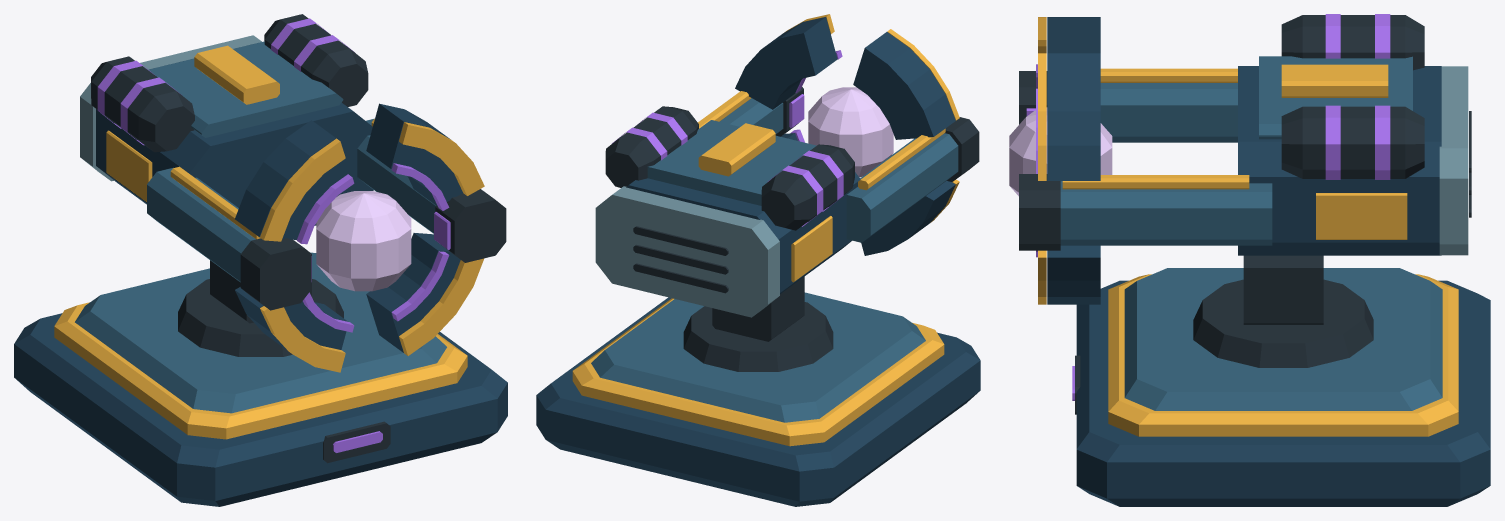
The model's file is PlasmaLevel2.obj.
3 renders of one model, left to right at view 1: azimuth 30°, elevation 25°; view 2: azimuth 150°, elevation 25°; view 3: azimuth 270°, elevation 25°, orthographic. The views are drawn at different scales.
Visible parts, largest first — view 1: SquarePedestal, UpperDeck, GoldPedestalTier, WideReactorHull, ChargedOrb, TopReactorDeck, ShoulderCapacitor-1, ForkArm-1, SplitElectrodeArmor1, Turntable, SplitElectrodeArmor3, ShoulderCapacitor1 (+22 smaller); view 2: SquarePedestal, UpperDeck, RearArmor, GoldPedestalTier, SplitElectrodeArmor1, Turntable, TopReactorDeck, ForkArm-1, SplitElectrodeArmor0, ChargedOrb, ShoulderCapacitor-1, WideReactorHull (+15 smaller); view 3: SquarePedestal, UpperDeck, WideReactorHull, GoldPedestalTier, ForkArm1, Turntable, ForkArm-1, ShoulderCapacitor1, SplitElectrodeArmor0, Support, RearArmor, TopReactorDeck (+15 smaller).
Boxes of the visible parts, <box> form: SquarePedestal: <box>14,313,507,506</box>; UpperDeck: <box>75,252,446,413</box>; GoldPedestalTier: <box>54,302,467,439</box>; WideReactorHull: <box>96,44,373,225</box>; ChargedOrb: <box>316,191,411,291</box>; TopReactorDeck: <box>148,41,343,137</box>; ShoulderCapacitor-1: <box>91,56,194,152</box>; ForkArm-1: <box>147,167,255,282</box>; SplitElectrodeArmor1: <box>235,120,347,239</box>; Turntable: <box>178,279,343,356</box>; SplitElectrodeArmor3: <box>366,233,460,352</box>; ShoulderCapacitor1: <box>264,14,368,106</box>; SquarePedestal: <box>536,297,980,506</box>; UpperDeck: <box>591,292,925,422</box>; RearArmor: <box>595,186,779,317</box>; GoldPedestalTier: <box>572,298,944,446</box>; SplitElectrodeArmor1: <box>853,32,955,139</box>; Turntable: <box>683,302,833,371</box>; TopReactorDeck: <box>647,120,816,205</box>; ForkArm-1: <box>846,133,958,242</box>; SplitElectrodeArmor0: <box>735,17,837,109</box>; ChargedOrb: <box>808,87,893,177</box>; ShoulderCapacitor-1: <box>761,144,854,230</box>; WideReactorHull: <box>626,172,860,293</box>; SquarePedestal: <box>1076,280,1490,506</box>; UpperDeck: <box>1124,268,1442,410</box>; WideReactorHull: <box>1238,66,1441,255</box>; GoldPedestalTier: <box>1108,274,1458,436</box>; ForkArm1: <box>1060,181,1272,245</box>; Turntable: <box>1193,279,1373,367</box>; ForkArm-1: <box>1100,83,1237,142</box>; ShoulderCapacitor1: <box>1281,106,1424,178</box>; SplitElectrodeArmor0: <box>1047,53,1100,180</box>; Support: <box>1243,255,1323,324</box>; RearArmor: <box>1439,66,1468,255</box>; TopReactorDeck: <box>1259,56,1412,139</box>.
Bounding box in the file's own units: 2.17 × 2.26 × 2.53.
